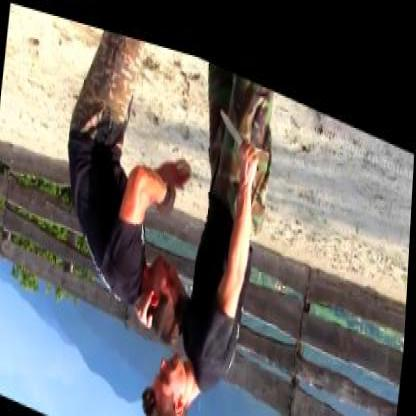knife: (212, 86, 265, 161)
